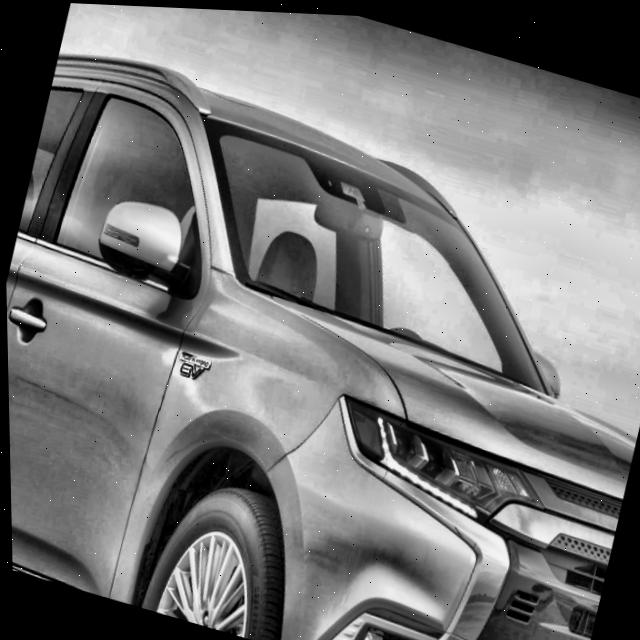light_vehicle: (1, 35, 640, 640)
